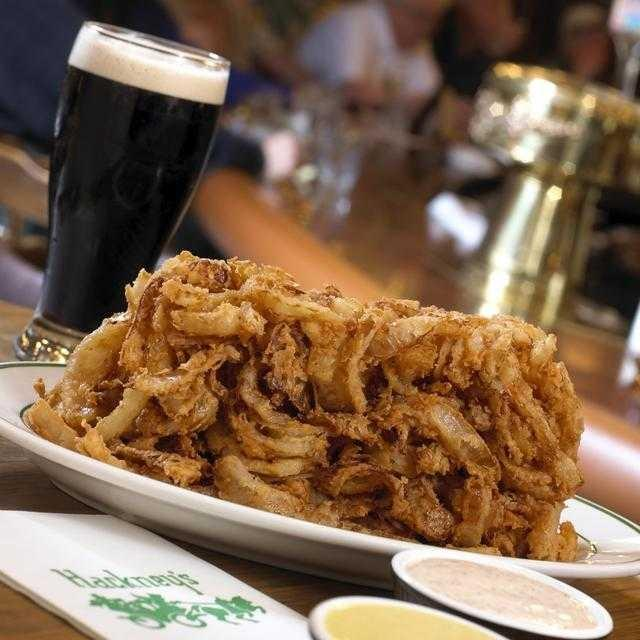onion: (36, 249, 590, 544)
